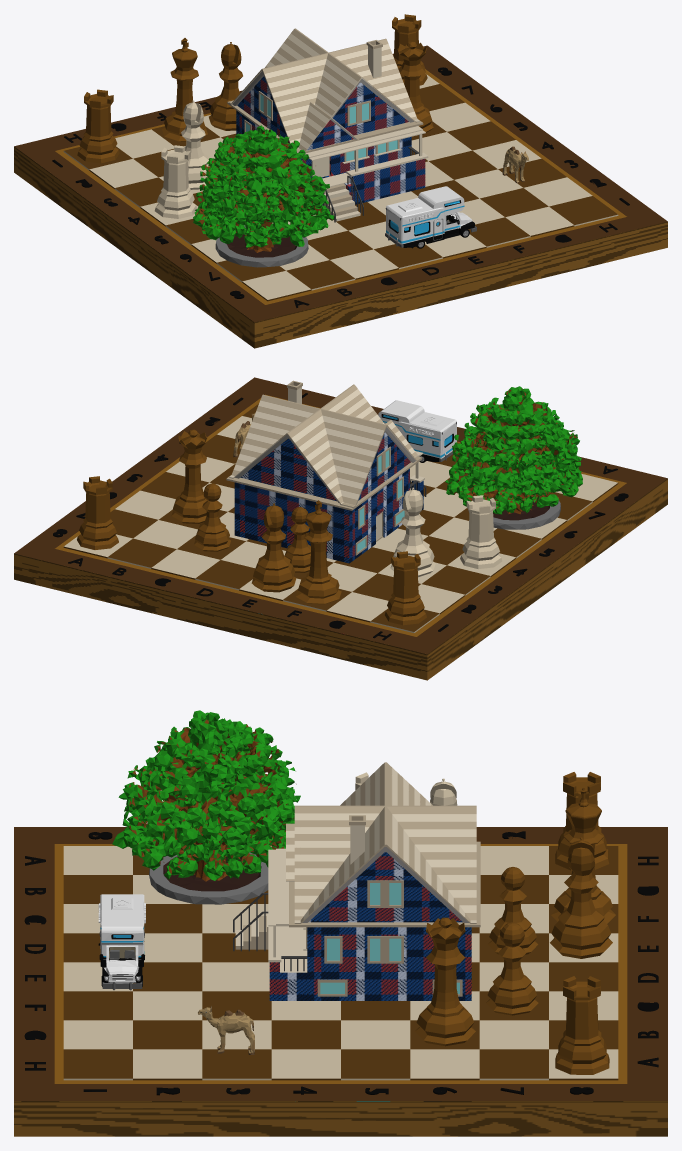
3 views of the same model, one above another, from view 1: azimuth 30°, elevation 25°; view 2: azimuth 150°, elevation 25°; view 3: azimuth 270°, elevation 25° (orthographic). The views are drawn at different scales.
Visible parts, largest first — view 1: Cube.002, Cube.171, OBJRANDOM_CEIBA, VEHICLES_CAMPER, ANIMAL_CAMELLO; view 2: Cube.002, Cube.171, OBJRANDOM_CEIBA, VEHICLES_CAMPER; view 3: Cube.002, Cube.171, OBJRANDOM_CEIBA, VEHICLES_CAMPER, ANIMAL_CAMELLO.
Part boxes in pixels (left/top/right/bottom): Cube.002: left=14, top=14, right=667, bottom=348; Cube.171: left=227, top=28, right=428, bottom=222; OBJRANDOM_CEIBA: left=193, top=125, right=334, bottom=267; VEHICLES_CAMPER: left=385, top=186, right=476, bottom=248; ANIMAL_CAMELLO: left=502, top=146, right=528, bottom=183; Cube.002: left=14, top=377, right=667, bottom=680; Cube.171: left=226, top=380, right=426, bottom=563; OBJRANDOM_CEIBA: left=445, top=386, right=582, bottom=529; VEHICLES_CAMPER: left=378, top=400, right=456, bottom=462; Cube.002: left=14, top=772, right=667, bottom=1136; Cube.171: left=233, top=762, right=480, bottom=1000; OBJRANDOM_CEIBA: left=112, top=710, right=300, bottom=904; VEHICLES_CAMPER: left=98, top=894, right=145, bottom=990; ANIMAL_CAMELLO: left=198, top=1006, right=254, bottom=1054.
Size of the model in its own units: 3981 by 1462 by 4012.
37 materials, 3 textured.
